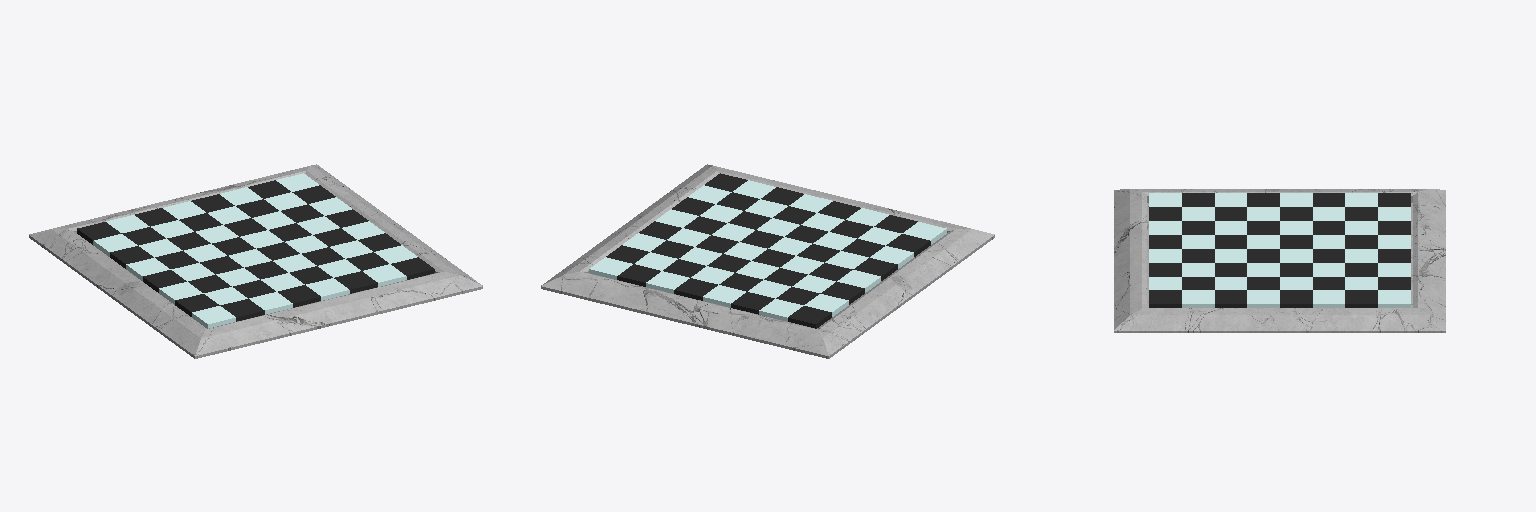
The picture shows the model from 3 angles: view 1: azimuth 30°, elevation 25°; view 2: azimuth 150°, elevation 25°; view 3: azimuth 270°, elevation 25°; orthographic projection.
Parts seen in each view (by area): view 1: Board.003_Square_Grid.003, Frame_02.002_Cube.004; view 2: Board.003_Square_Grid.003, Frame_02.002_Cube.004; view 3: Board.003_Square_Grid.003, Frame_02.002_Cube.004.
Boxes of the visible parts, box(x1,y1,x2,y2) form: Board.003_Square_Grid.003: box(77, 173, 434, 328); Frame_02.002_Cube.004: box(29, 164, 482, 358); Board.003_Square_Grid.003: box(589, 173, 946, 328); Frame_02.002_Cube.004: box(541, 164, 994, 358); Board.003_Square_Grid.003: box(1149, 193, 1410, 307); Frame_02.002_Cube.004: box(1114, 189, 1445, 332).
Bounding box in the file's own units: 0.61 × 0.0289 × 0.61.
Materials: 3 (1 with a texture image).